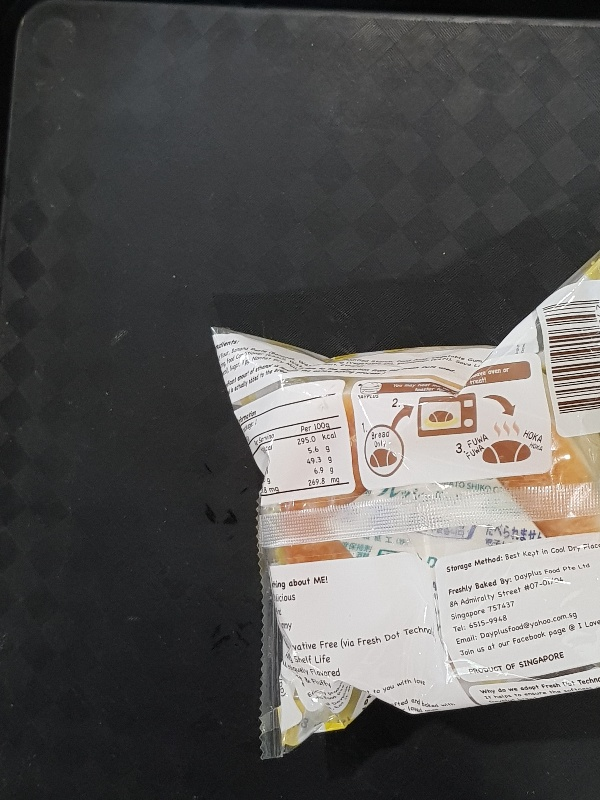Dayplus Banana: (208, 251, 600, 763)
